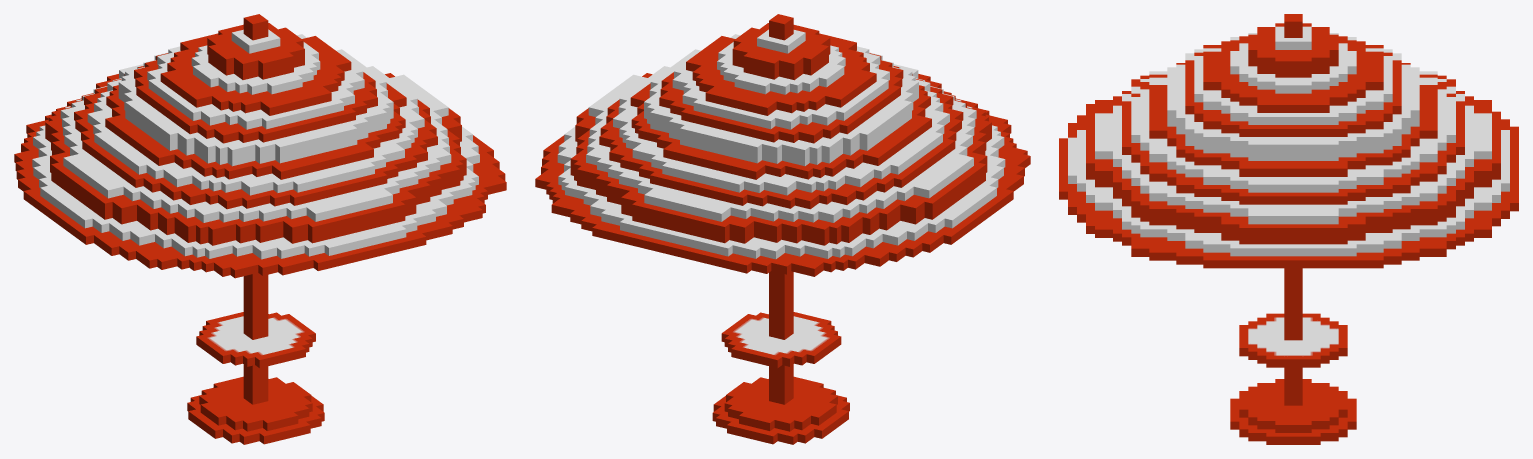
File: parasol_table.fbx
3 views of the same model, side by side, from view 1: azimuth 30°, elevation 25°; view 2: azimuth 150°, elevation 25°; view 3: azimuth 270°, elevation 25° (orthographic).
Visible parts, largest first — view 1: parasol_table; view 2: parasol_table; view 3: parasol_table.
Boxes of the visible parts, x1,y1,x2,y2 form: parasol_table: (14,14,506,444); parasol_table: (535,14,1030,444); parasol_table: (1059,14,1518,444).
Size of the model in its own units: 51 by 49 by 51.
